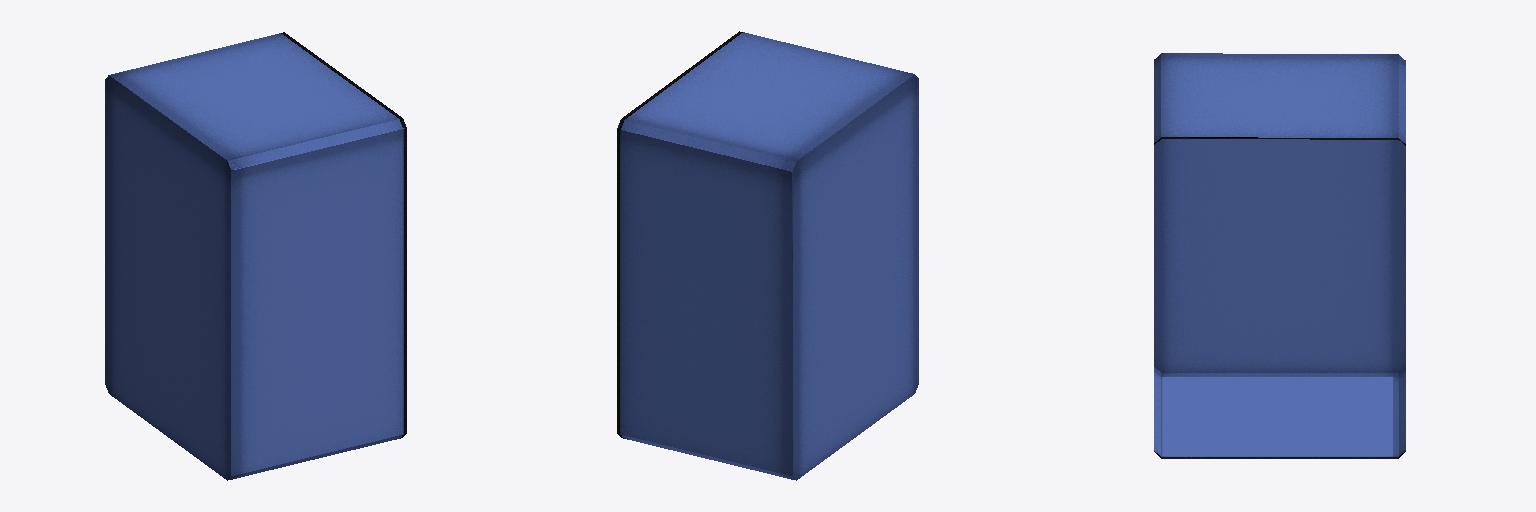
The picture shows the model from 3 angles: view 1: azimuth 30°, elevation 25°; view 2: azimuth 150°, elevation 25°; view 3: azimuth 270°, elevation 25°; orthographic projection.
Parts seen in each view (by area): view 1: Combined_Mesh_(root:_scene); view 2: Combined_Mesh_(root:_scene); view 3: Combined_Mesh_(root:_scene).
Part boxes in pixels (bbox=[...]): Combined_Mesh_(root:_scene): bbox=[105, 32, 406, 480]; Combined_Mesh_(root:_scene): bbox=[617, 31, 918, 480]; Combined_Mesh_(root:_scene): bbox=[1154, 53, 1405, 458].
Bounding box in the file's own units: 0.1104 × 0.1923 × 0.1378.
1 materials, 1 textured.